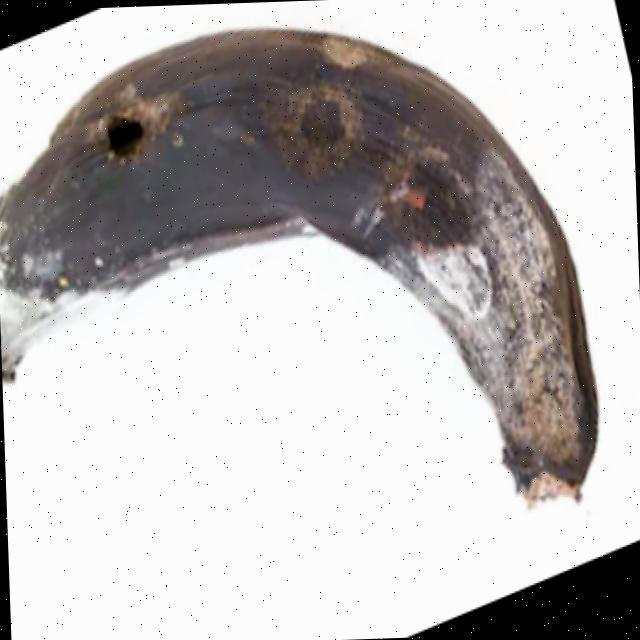Rotten: (0, 3, 614, 571)
